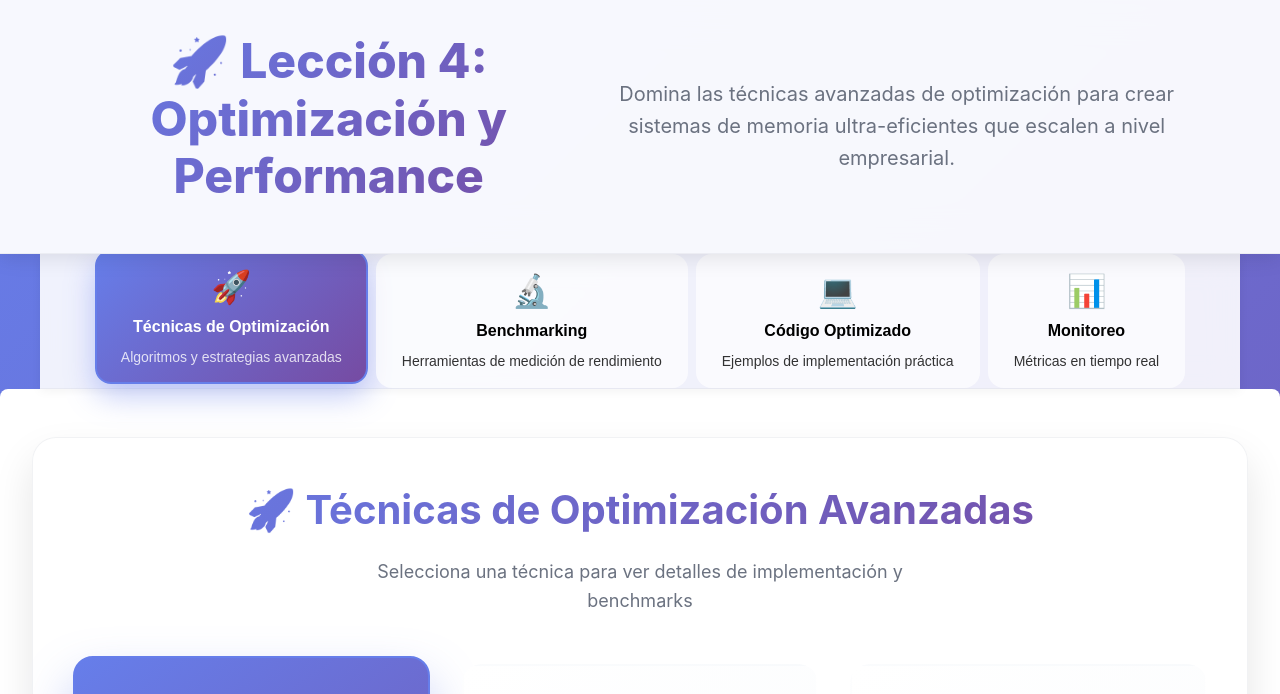
Scenario: Lesson04Optimization › Navegación por Pestañas › permite navegar entre pestañas con clics
Ir a la pestaña de benchmarking
Click the tab "🔬 Benchmarking Herramientas de medición de rendimiento" at (532, 321), box left=376, top=254, right=688, bottom=388
(page scrolled)
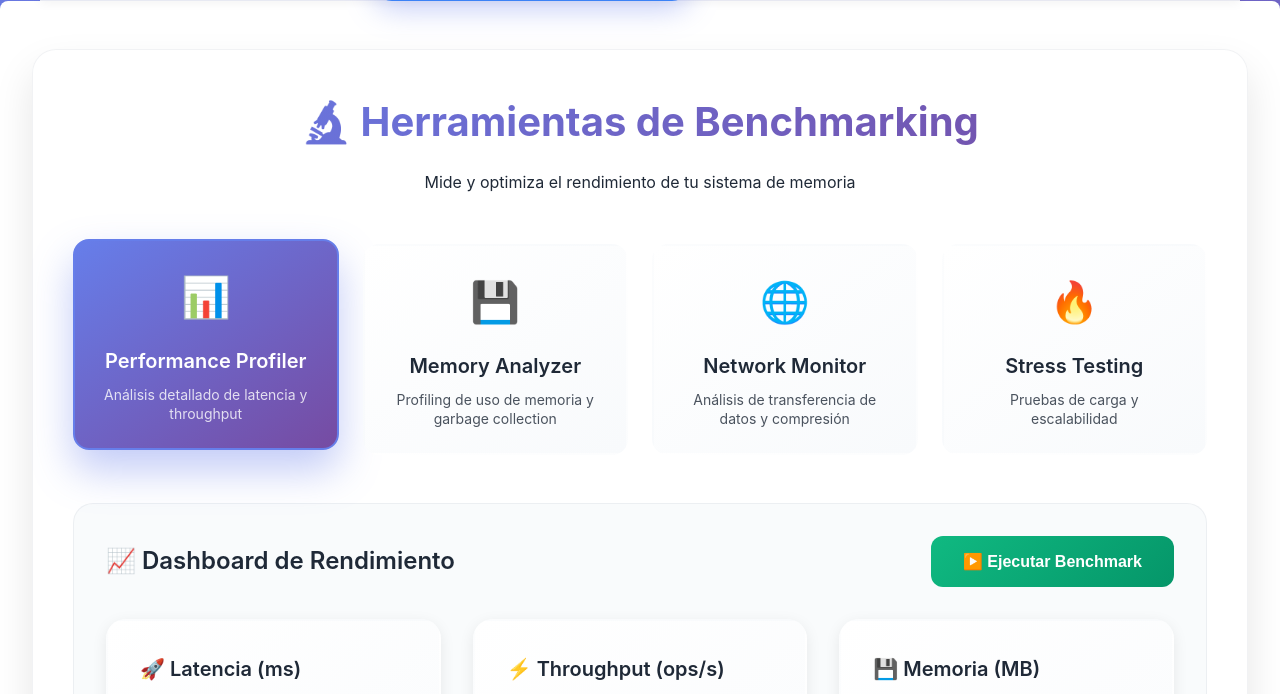
expect the heading "🔬 Herramientas de Benchmarking" is shown: met, box left=73, top=90, right=1207, bottom=154
expect the heading "Performance Profiler" is shown: met, box left=99, top=345, right=312, bottom=377
